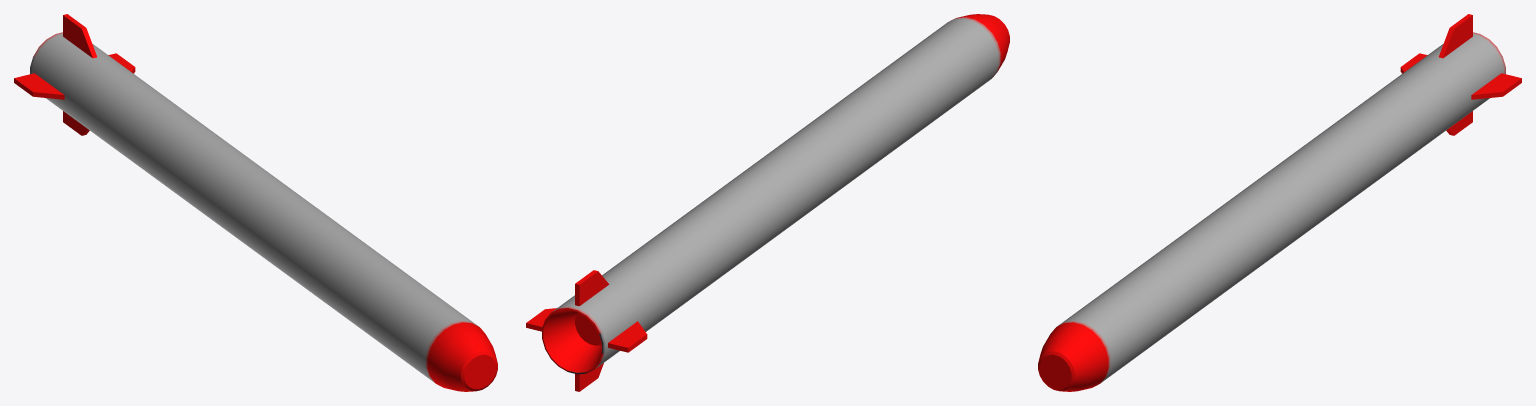
Rendered from Single_Missile.fbx.
The picture shows the model from 3 angles, left to right: view 1: azimuth 30°, elevation 25°; view 2: azimuth 150°, elevation 25°; view 3: azimuth 330°, elevation 25°; orthographic projection.
Visible parts, largest first — view 1: Single_Missile; view 2: Single_Missile; view 3: Single_Missile.
Part boxes in pixels (<box>): Single_Missile: <box>14,14,497,391</box>; Single_Missile: <box>526,14,1009,391</box>; Single_Missile: <box>1038,14,1521,391</box>.
Bounding box in the file's own units: 3.95 × 3.95 × 28.12.
